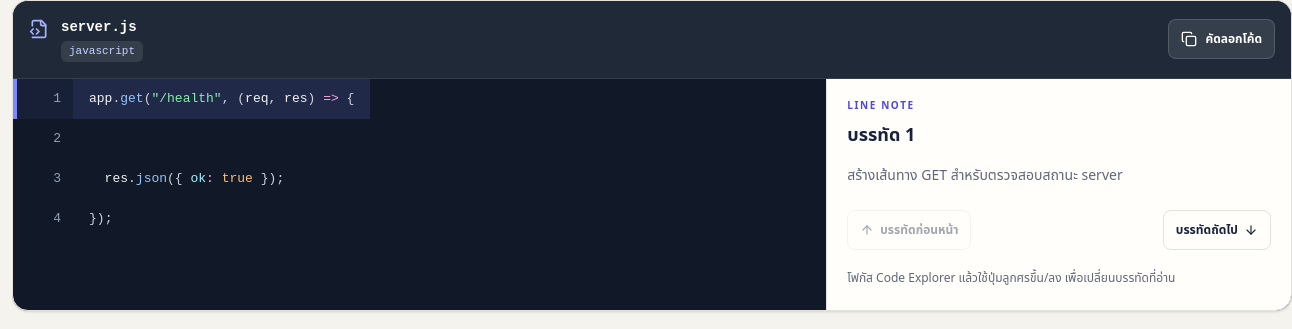
Accessibility contract › announces the selected CodeExplorer line and explanation through a polite live region
This screenshot has width=1292, height=329.
Click the button named "บรรทัด 2": (63, 138) [13, 118, 113, 158]
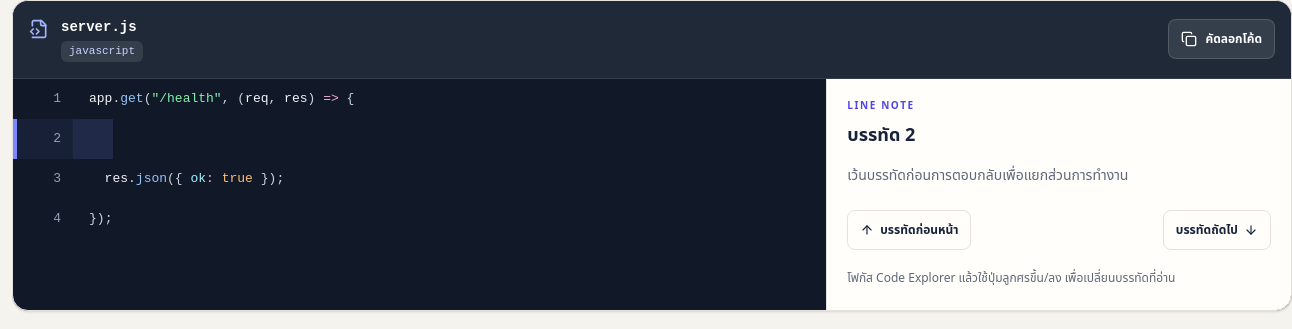
Expected: the element that starts with "LINE NOTE" shows "บรรทัด 2", [847, 98, 1128, 186]
Expected: the element that starts with "LINE NOTE" shows "เว้นบรรทัดก่อนการตอบกลับเพื่อแยกส่วนการทำงาน", [847, 164, 1128, 186]
Expected: the heading "บรรทัด 2" is shown, [847, 122, 915, 148]
